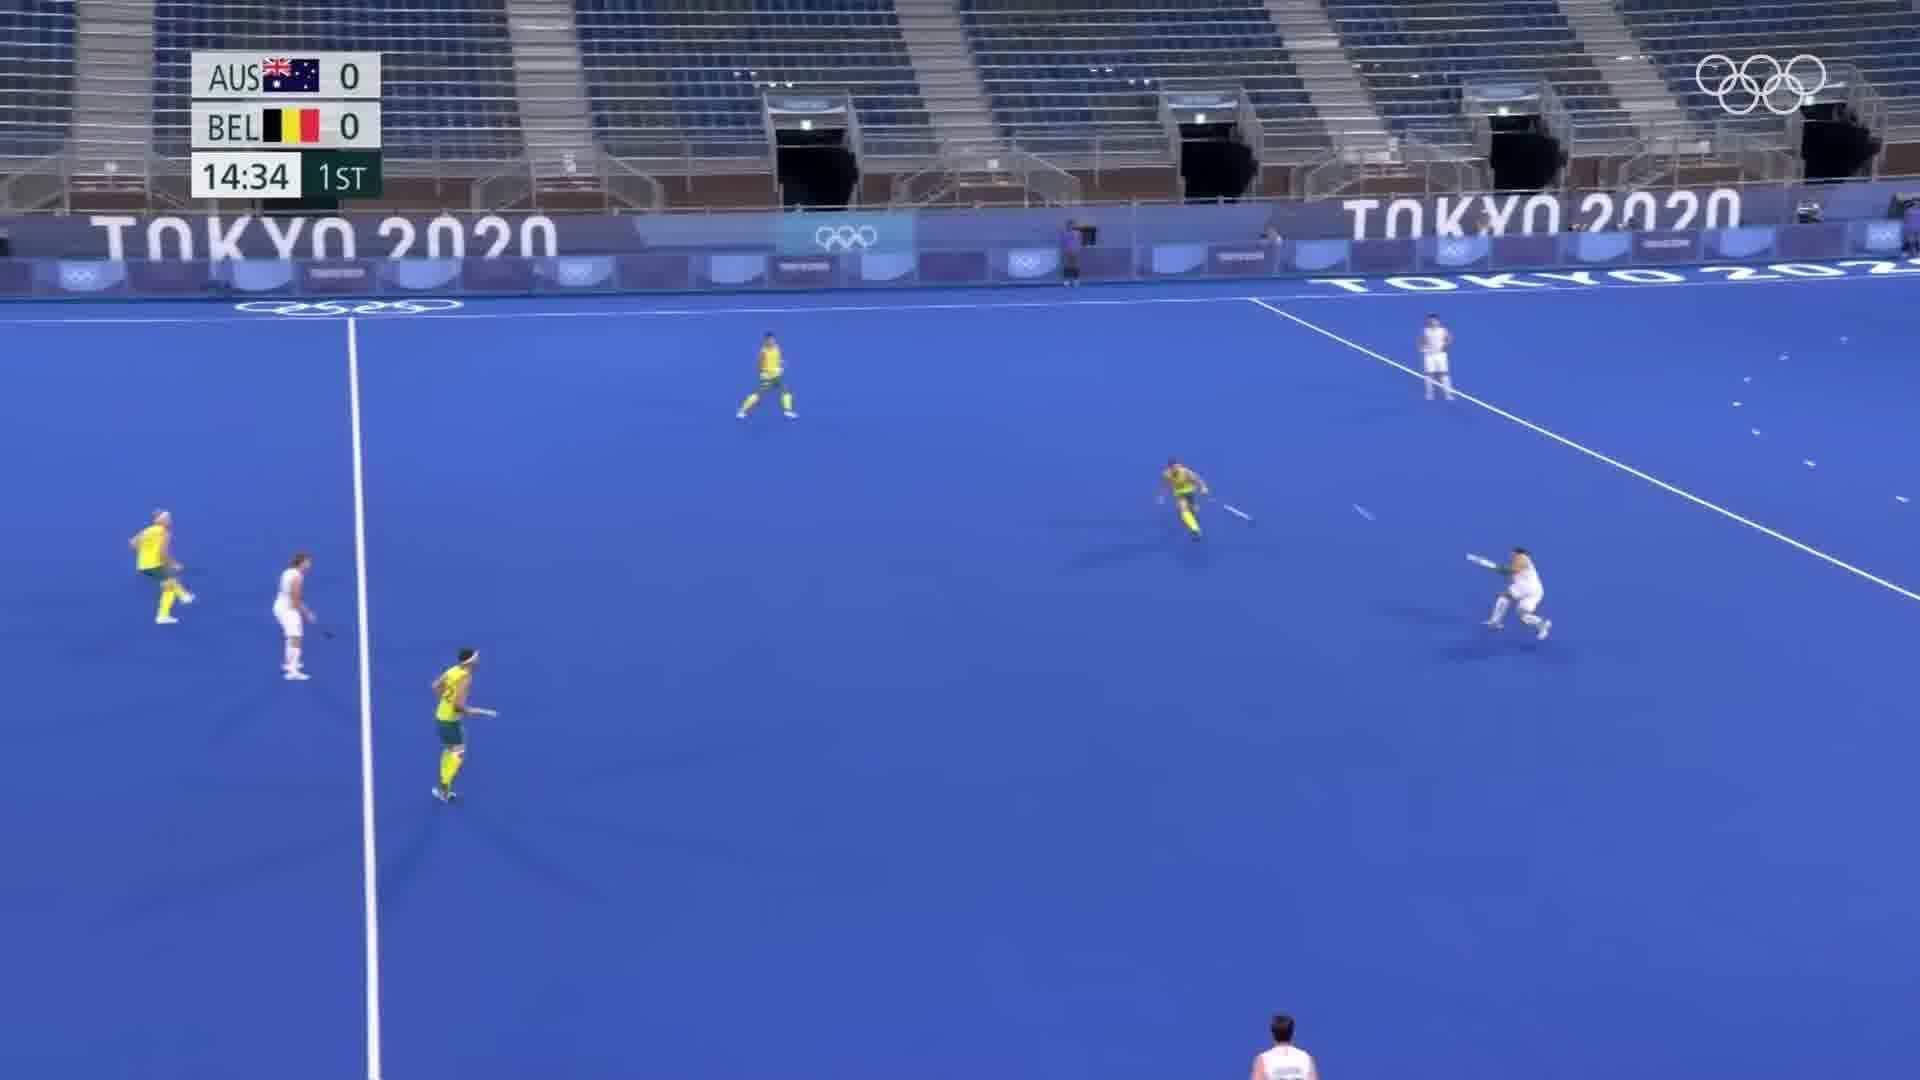ball: (1341, 495, 1381, 531)
